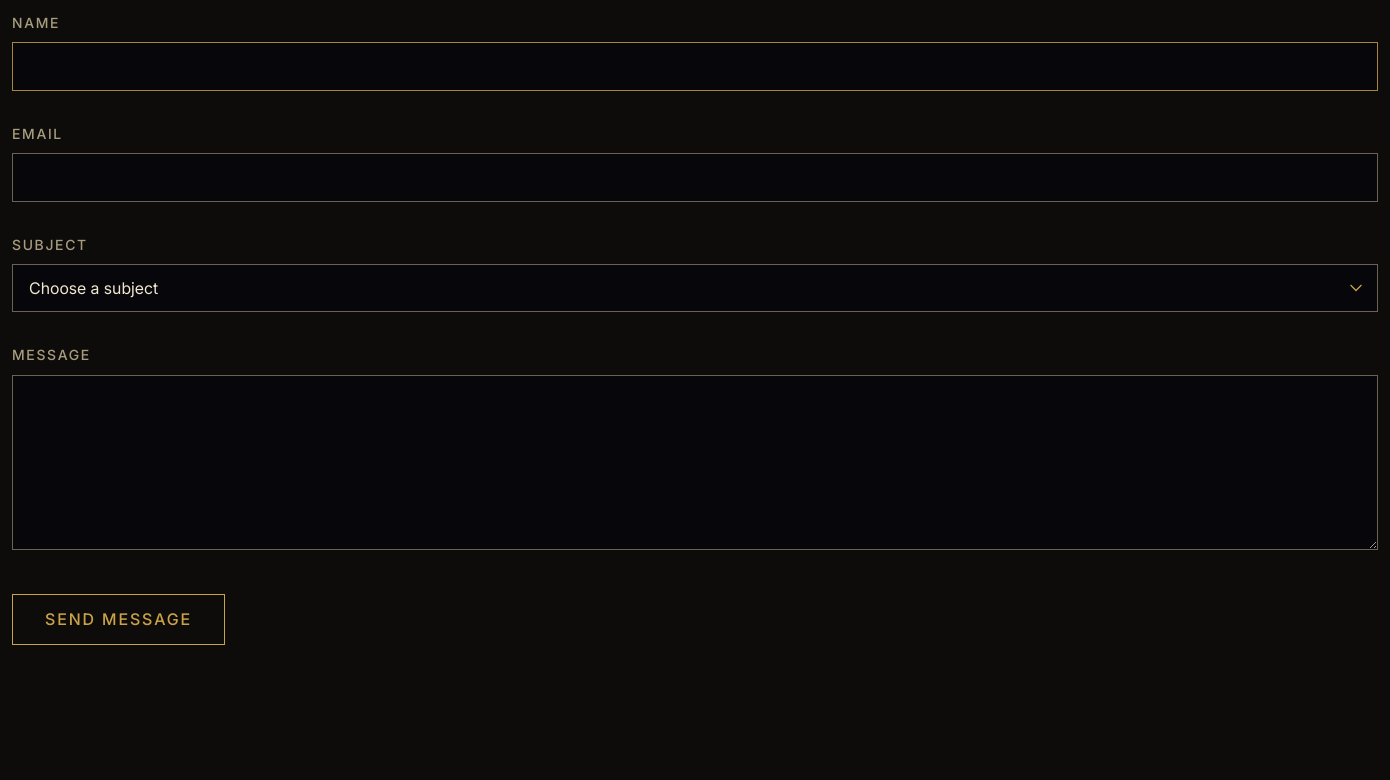
Test case: ContactForm › shows a field-level error, marks and focuses the control, and clears it on input
The image size is (1390, 780).
Type "Ada" into the field with test id "contact-form-name" at (695, 67), box [12,42,1378,91]
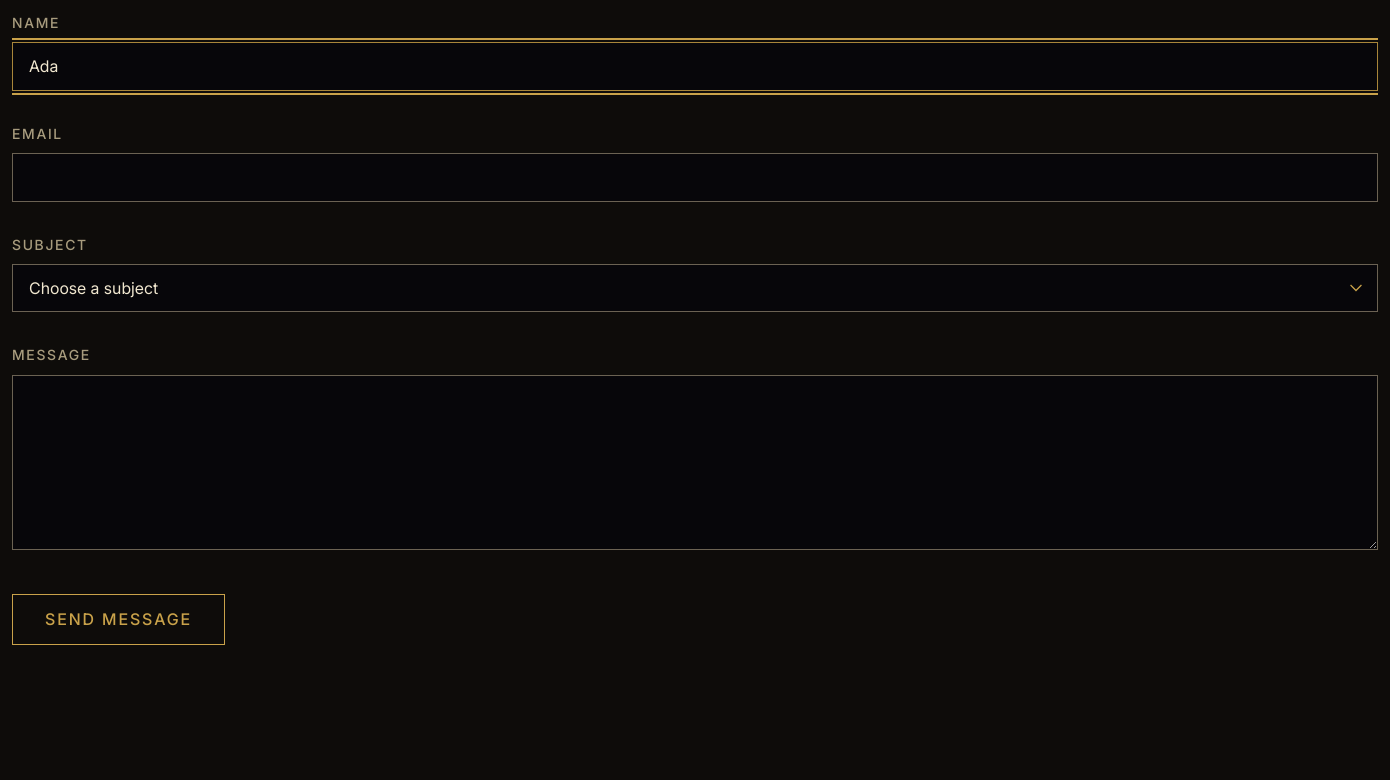
Type "ada@example.com" into the field with test id "contact-form-email" at (695, 177), box [12,153,1378,202]
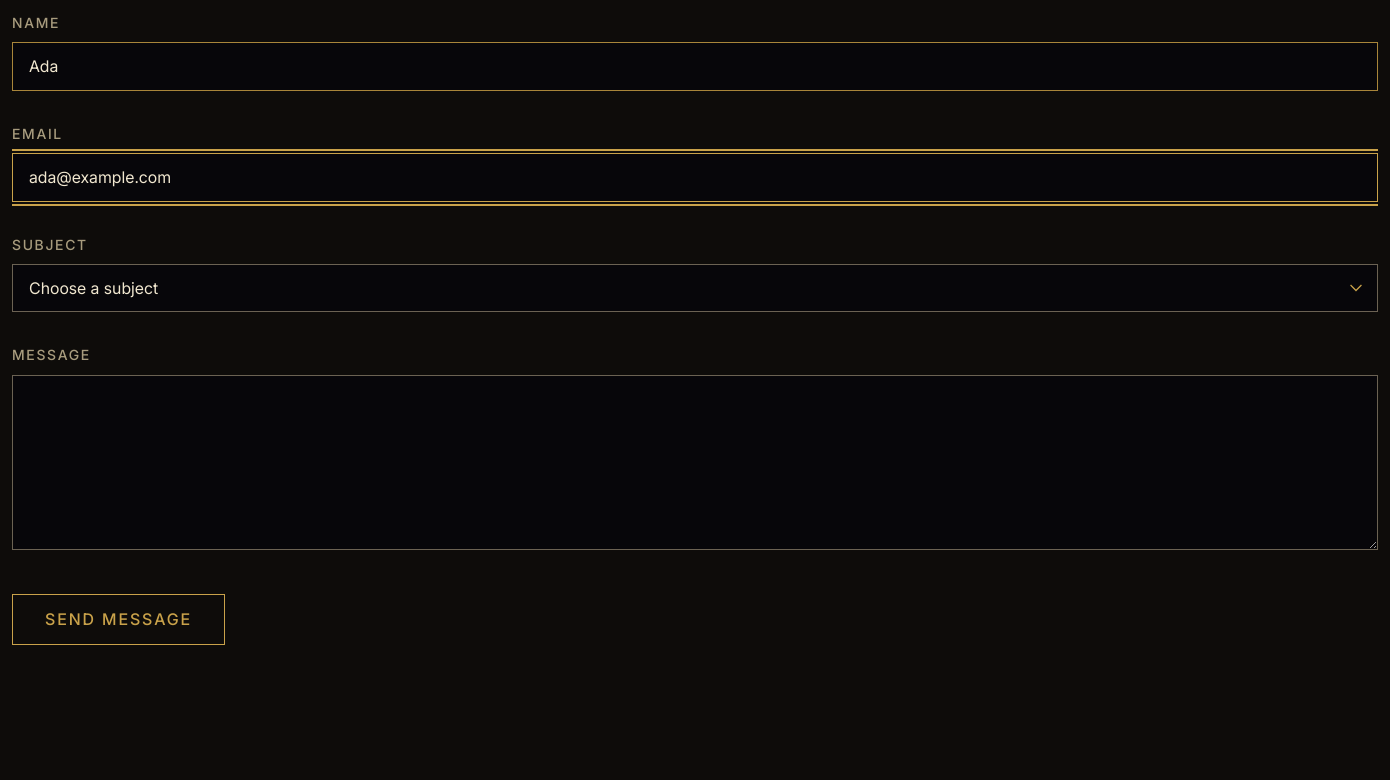
Select "General inquiry" in the dropdown with test id "contact-form-subject-select" at (695, 288), box [12,264,1378,312]
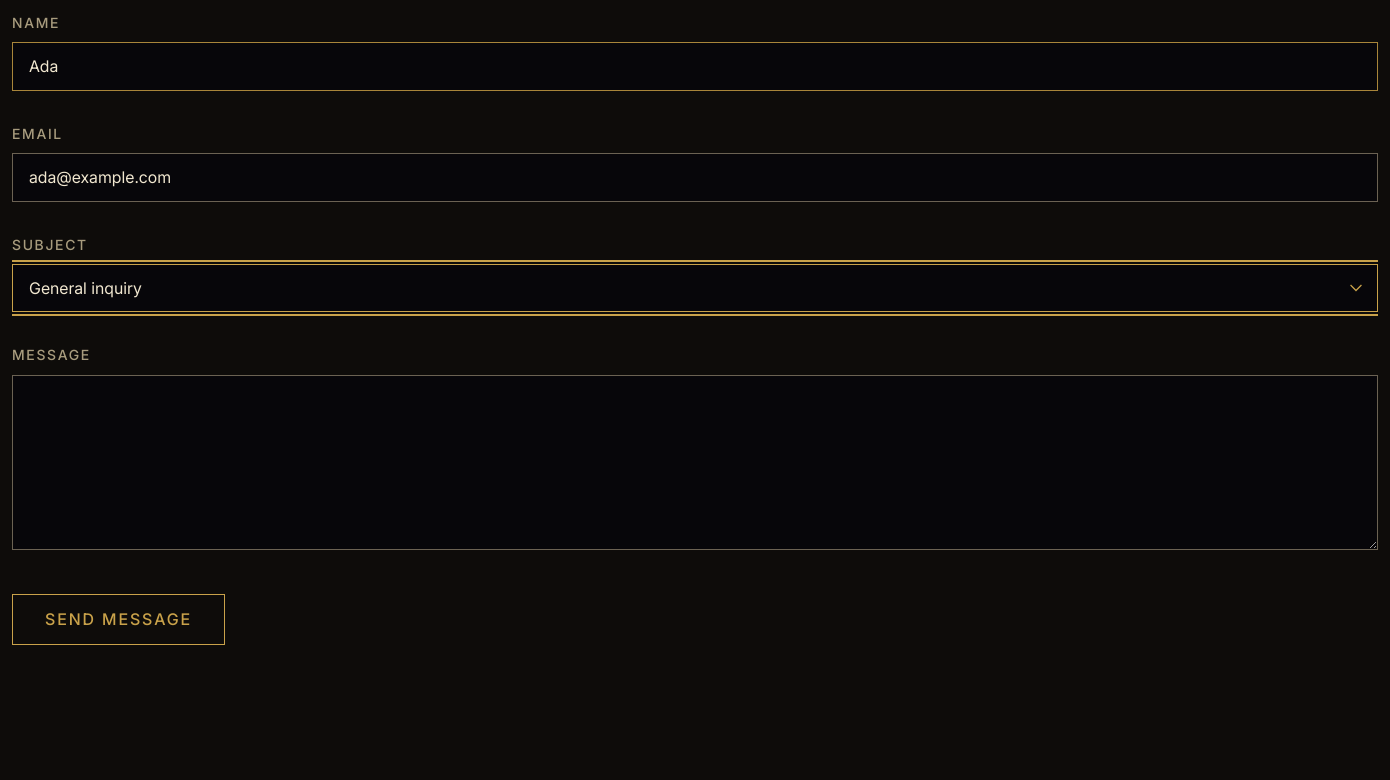
Type "Hello there" into the text box with test id "contact-form-message" at (695, 462), box [12,375,1378,550]
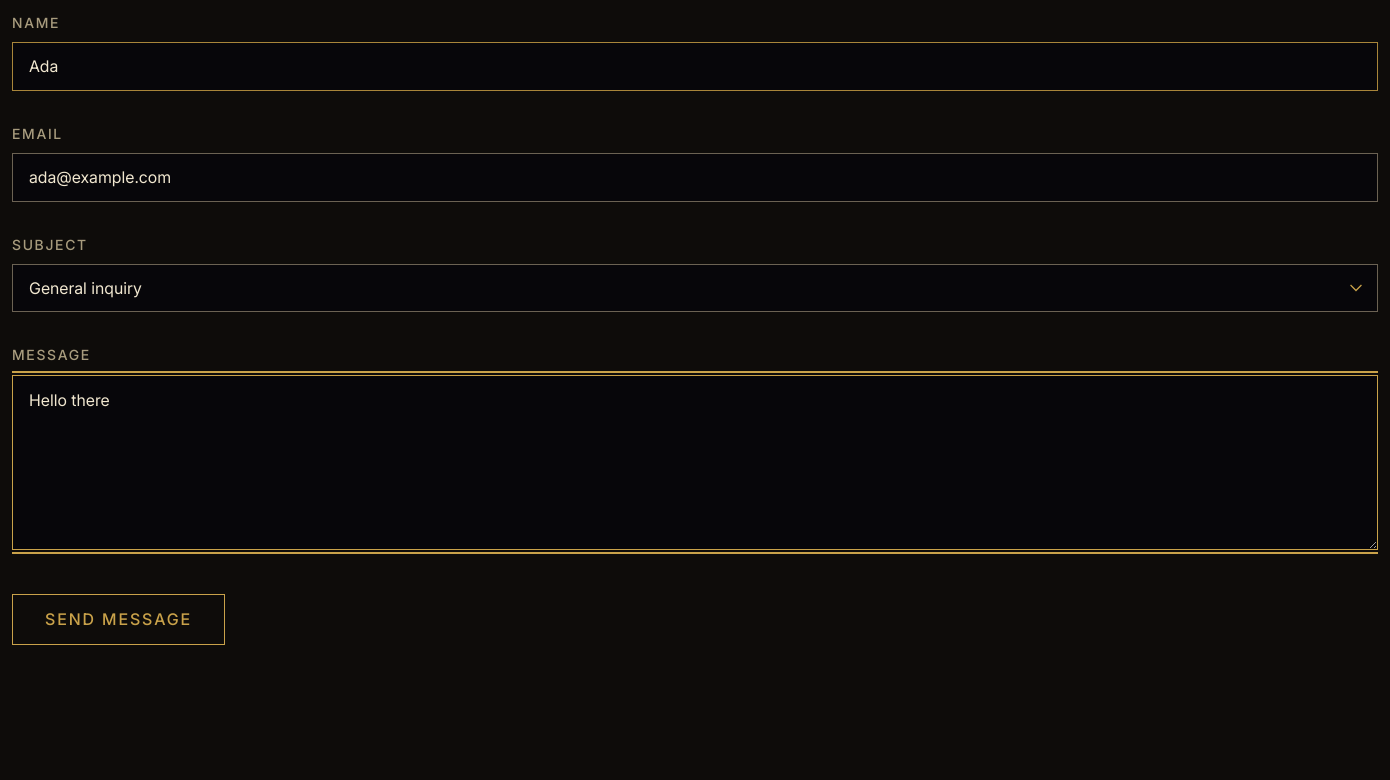
Click the button with test id "contact-form-submit" at (119, 619), box [12,594,225,645]
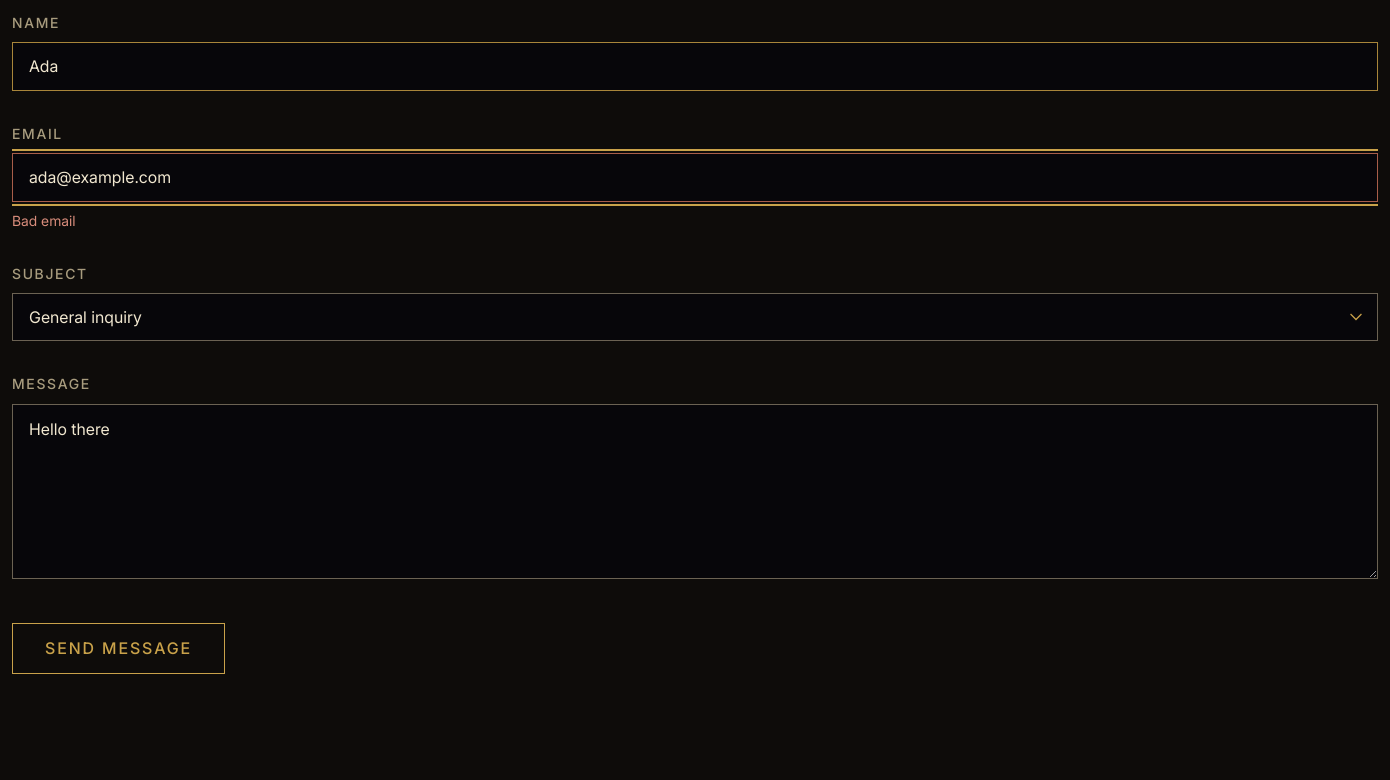
Now the text with test id "contact-form-field-error-email" reads "Bad email", box [12,212,76,229]
Type "x" into the field with test id "contact-form-email" at (695, 177), box [12,153,1378,202]
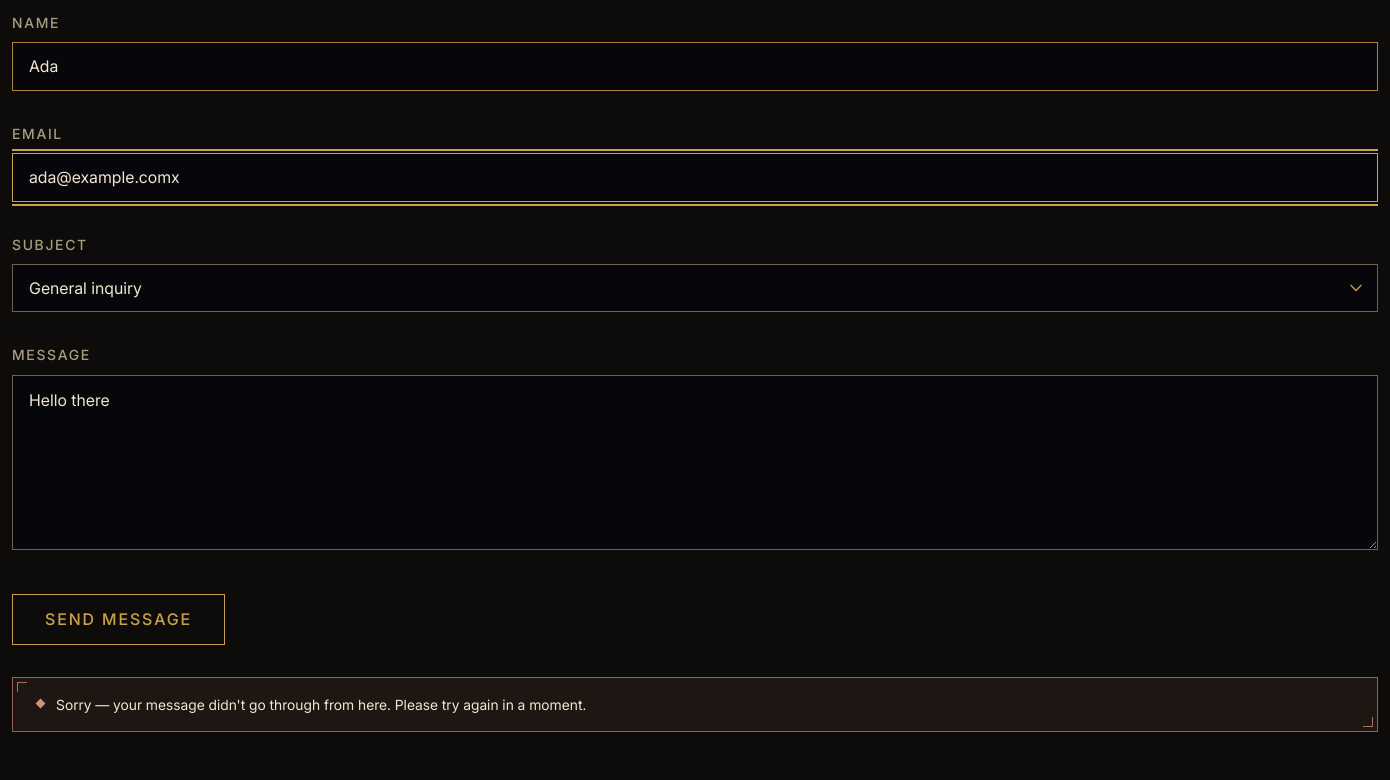
Now the text with test id "contact-form-field-error-email" is gone
